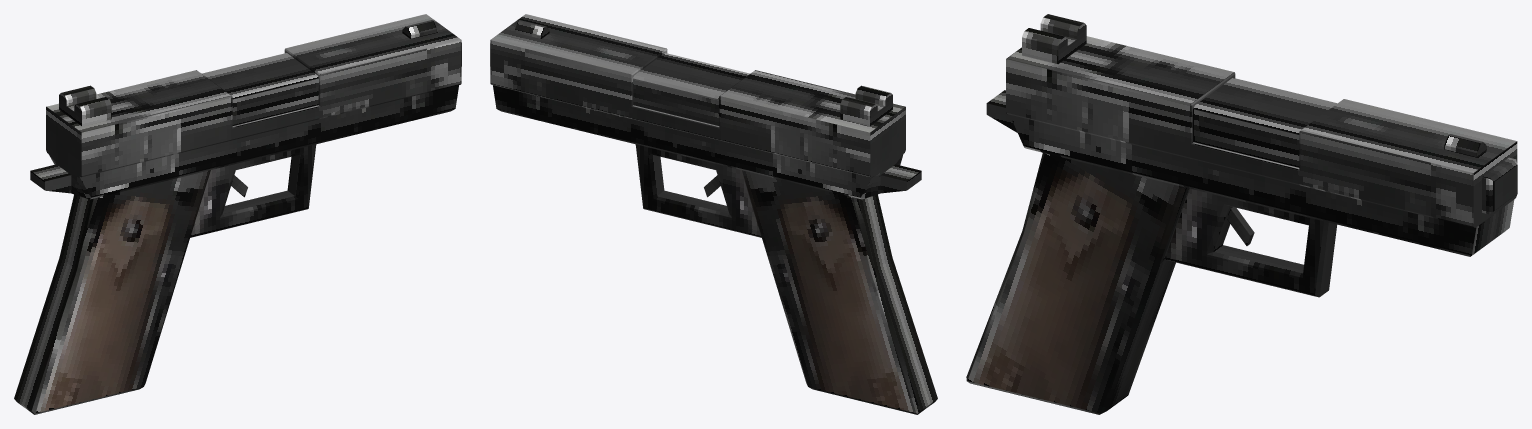
The model's file is basic_pistol.glb.
The picture shows the model from 3 angles, left to right: view 1: azimuth 30°, elevation 25°; view 2: azimuth 150°, elevation 25°; view 3: azimuth 330°, elevation 25°; orthographic projection. The views are drawn at different scales.
Parts seen in each view (by area): view 1: basic_pistol; view 2: basic_pistol; view 3: basic_pistol.
Boxes of the visible parts, x1,y1,x2,y2 form: basic_pistol: [14, 14, 461, 414]; basic_pistol: [490, 14, 937, 414]; basic_pistol: [966, 14, 1517, 414].
Size of the model in its own units: 4.94 by 3.27 by 0.7078.
1 material, 1 textured.
